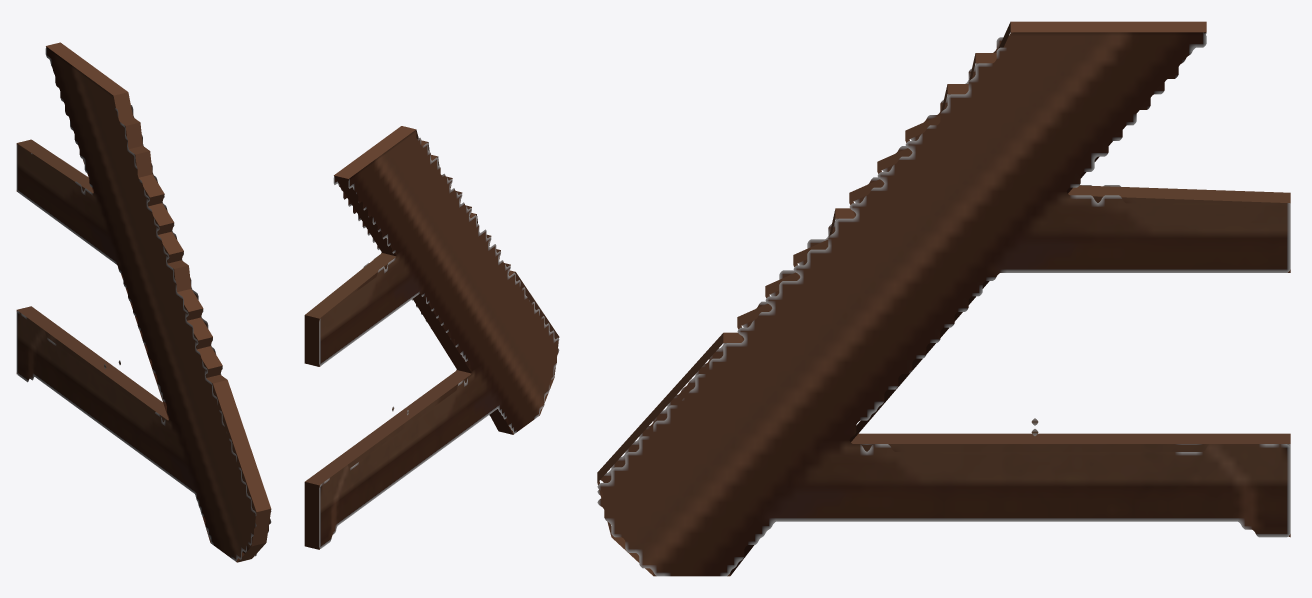
File: pz_native_fixtures_railings_01_84_frame.obj
The picture shows the model from 3 angles, left to right: view 1: azimuth 30°, elevation 25°; view 2: azimuth 150°, elevation 25°; view 3: azimuth 270°, elevation 25°; orthographic projection. The views are drawn at different scales.
Visible parts, largest first — view 1: pz_native_fixtures_railings_01_84_frame; view 2: pz_native_fixtures_railings_01_84_frame; view 3: pz_native_fixtures_railings_01_84_frame.
Part boxes in pixels (left/top/right/bottom): pz_native_fixtures_railings_01_84_frame: left=16, top=42, right=271, bottom=562; pz_native_fixtures_railings_01_84_frame: left=304, top=126, right=559, bottom=549; pz_native_fixtures_railings_01_84_frame: left=597, top=21, right=1290, bottom=576.
Size of the model in its own units: 0.045 by 1.12 by 1.29.
1 material, 1 textured.
